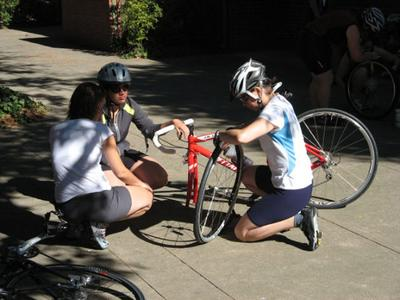person: (214, 58, 324, 254)
